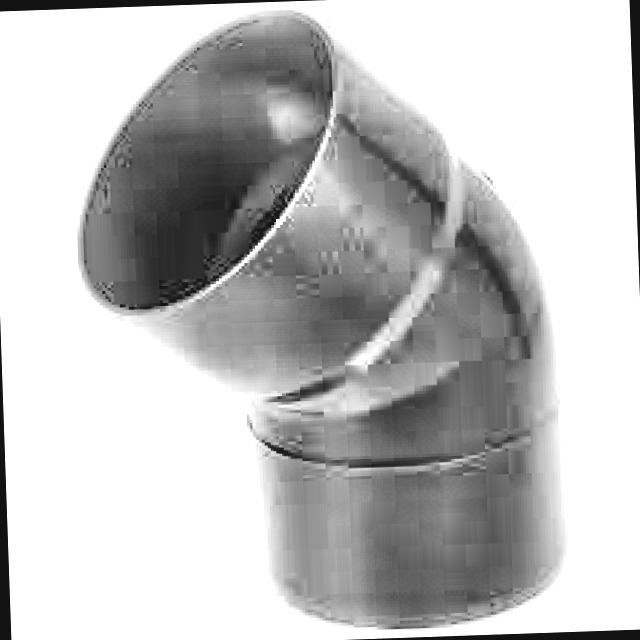ELBOW45: (76, 7, 571, 633)
